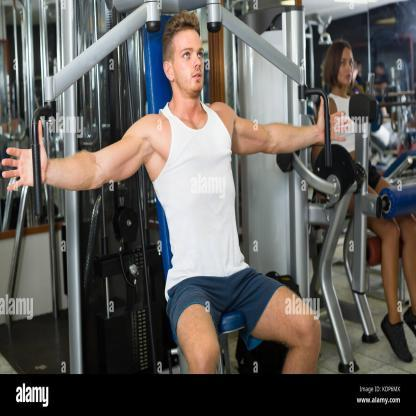chest fly machine: (20, 2, 349, 379)
